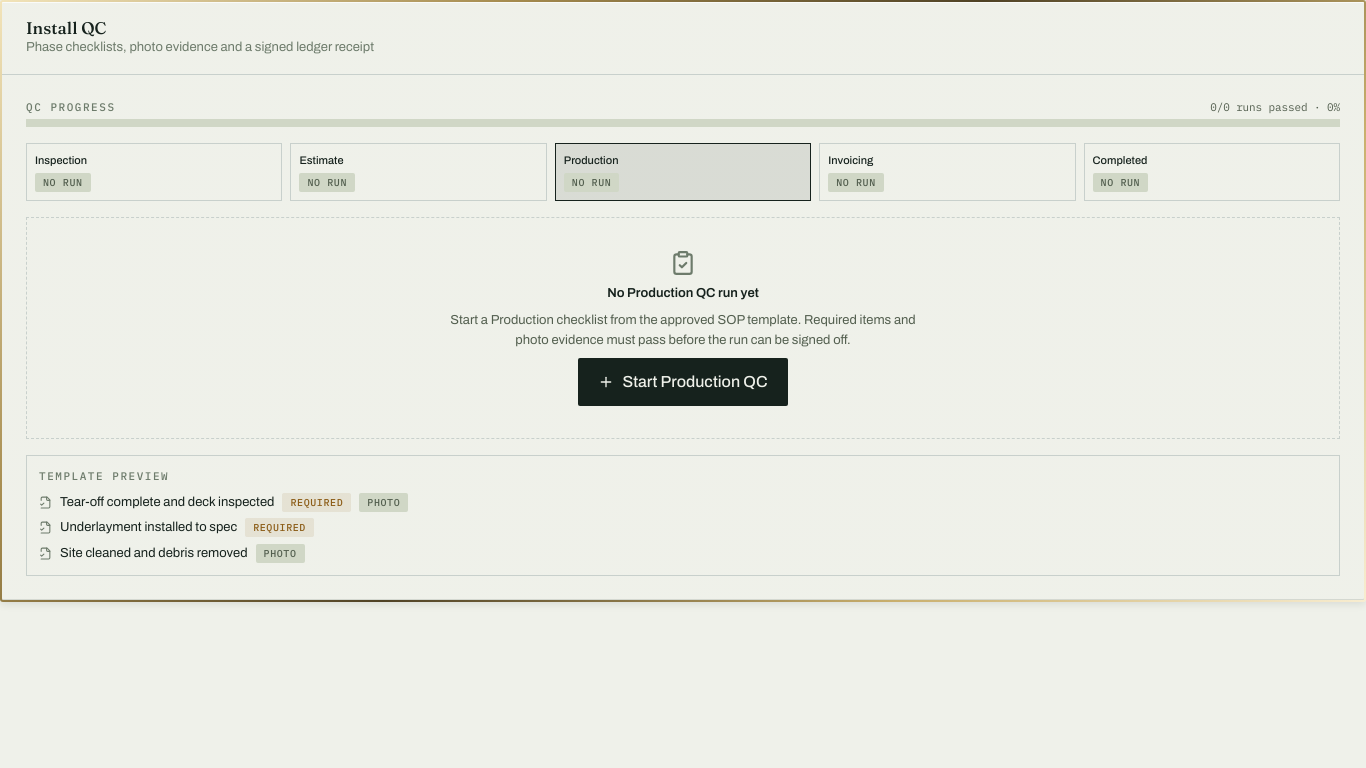
QcPanel — creating and editing a draft › starts a run and renders the checklist after the refetch
This screenshot has width=1366, height=768.
Click the button "Start Production QC" at (683, 382), box [578,358,788,406]
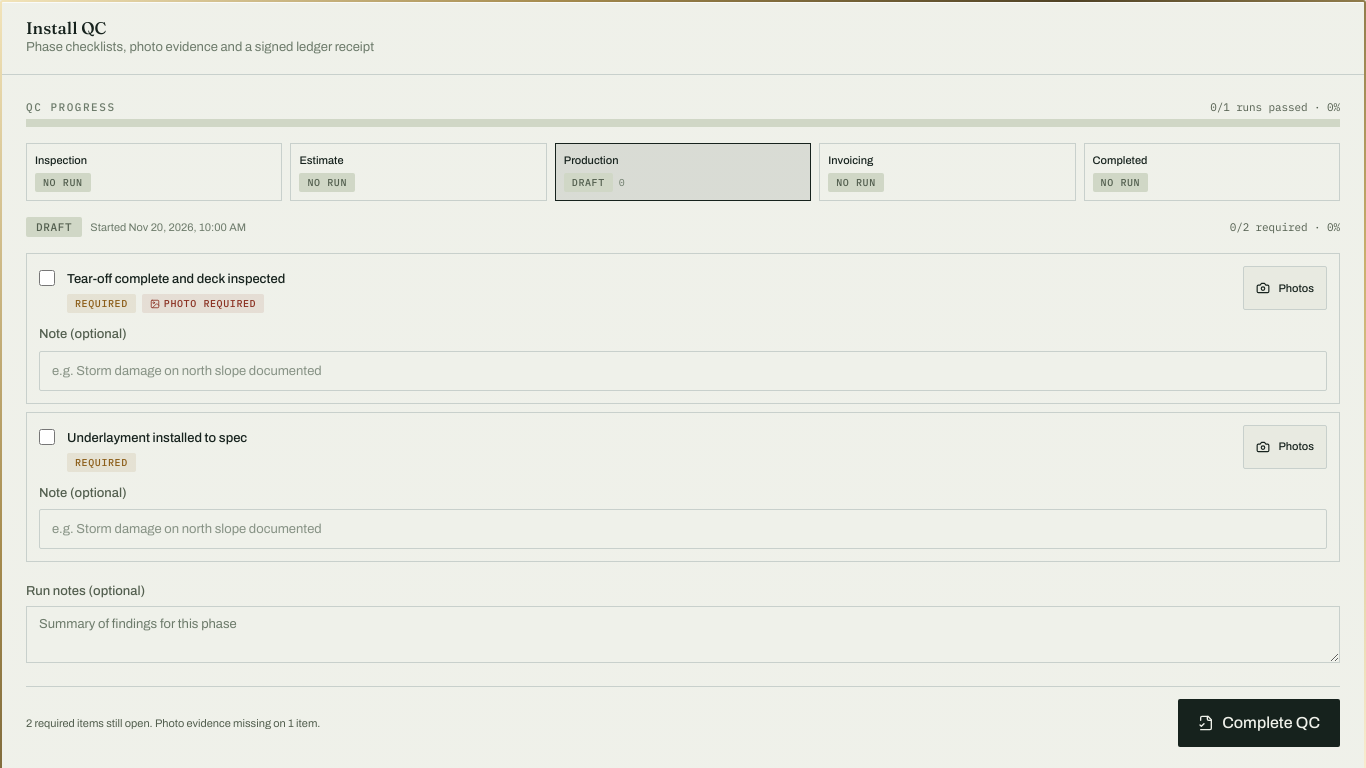
expect the checkbox named "Mark \"Tear-off complete and deck inspected\" as passed" is shown: met, box [39,270,55,286]
expect the 1st text "Draft" is shown: met, box [564,173,613,192]
